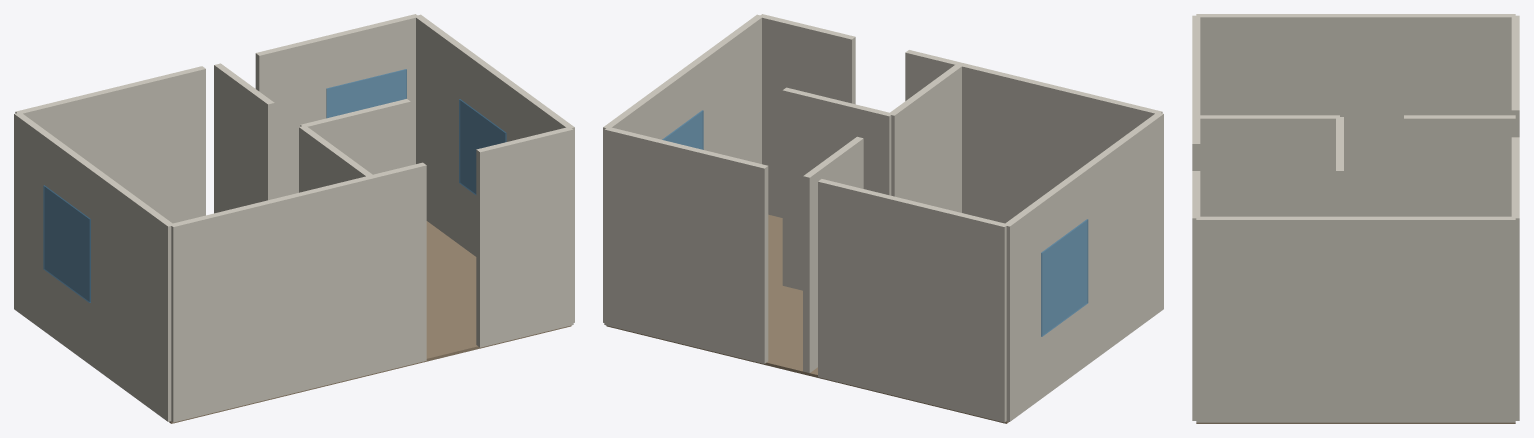
3 renders of one model, left to right at view 1: azimuth 30°, elevation 25°; view 2: azimuth 150°, elevation 25°; view 3: azimuth 270°, elevation 25°, orthographic. The views are drawn at different scales.
Visible parts, largest first — view 1: wall_4, wall_5, wall_3, wall_2, wall_0, wall_1, wall_6, floor, wall_8, window_2, wall_7, window_0 (+1 smaller); view 2: wall_0, wall_1, wall_5, wall_4, wall_2, wall_8, wall_3, wall_7, wall_6, floor, window_2, window_1; view 3: wall_2, wall_5, wall_7, wall_6, wall_1, wall_3, wall_4, wall_0, wall_8, floor.
Part boxes in pixels (x1,y1,x2,y2): wall_4: (170,162,426,422); wall_5: (14,112,173,421); wall_3: (476,127,573,347); wall_2: (414,14,574,322); wall_0: (15,66,205,223); wall_1: (255,14,418,198); wall_6: (214,63,274,213); floor: (169,221,571,423); wall_8: (300,99,410,174); window_2: (43,185,90,302); wall_7: (299,126,373,192); window_0: (326,69,406,117); wall_0: (818,179,1007,422); wall_1: (604,127,768,363); wall_5: (1003,112,1163,421); wall_4: (905,50,1162,223); wall_2: (603,14,763,322); wall_8: (782,87,891,290); wall_3: (760,14,855,217); wall_7: (888,63,963,212); wall_6: (803,136,863,372); floor: (606,214,1008,423); window_2: (1041,219,1088,336); window_1: (662,110,703,149); wall_2: (1196,216,1515,422); wall_5: (1196,14,1515,216); wall_7: (1196,115,1339,216); wall_6: (1404,115,1515,216); wall_1: (1511,137,1519,420); wall_3: (1192,171,1200,420); wall_4: (1192,15,1200,170); wall_0: (1511,15,1519,137); wall_8: (1336,117,1343,216); floor: (1196,422,1515,423).
Size of the model in its own units: 6.12 by 2.84 by 4.1.
